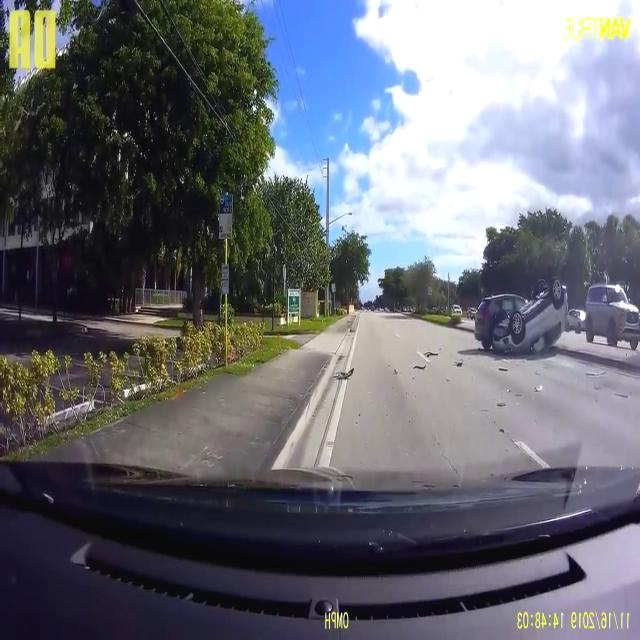accident: (473, 282, 569, 358)
non-accident: (566, 281, 638, 351)
